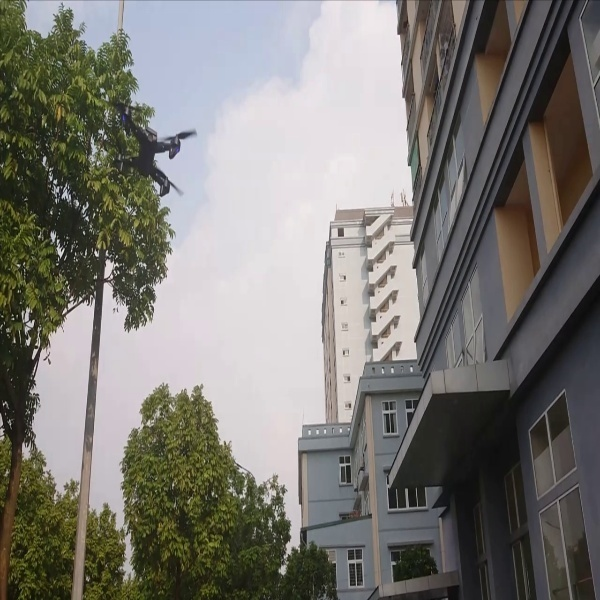drone: (99, 94, 199, 201)
